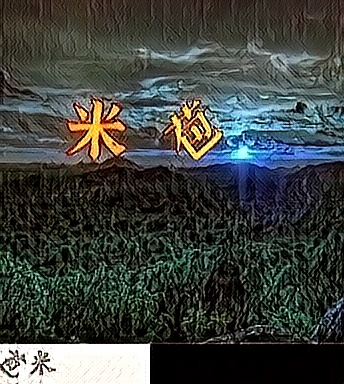B0FA: (161, 99, 224, 166)
C3D7: (66, 95, 129, 162)
